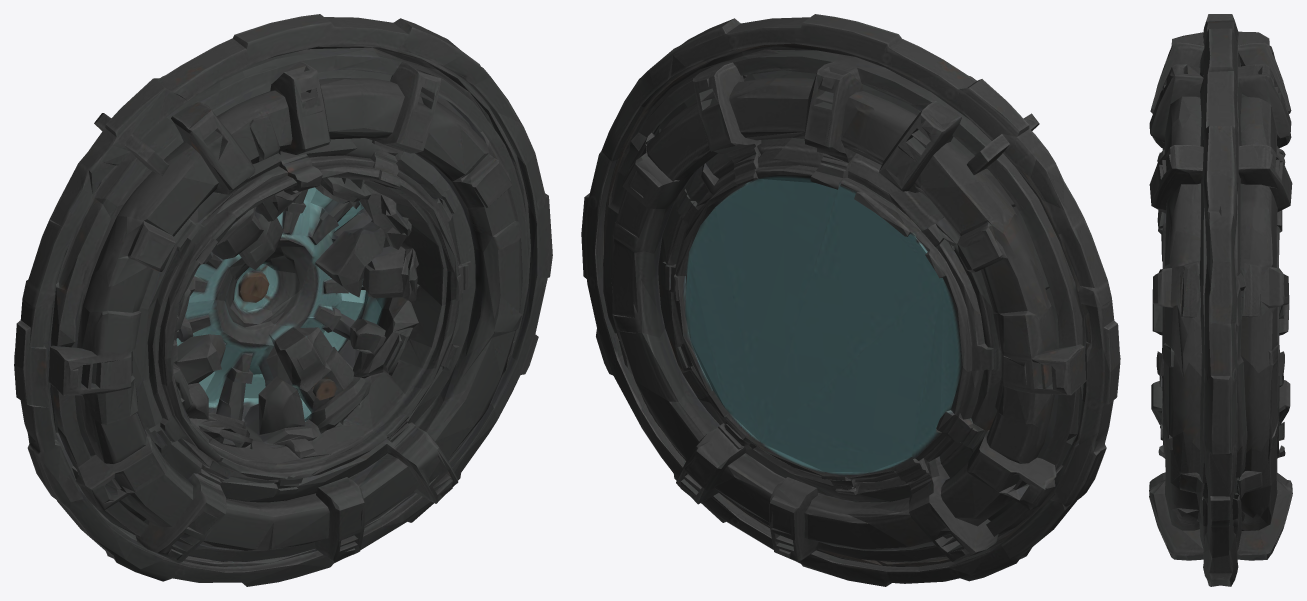
Rendered from web.glb.
The picture shows the model from 3 angles, left to right: view 1: azimuth 30°, elevation 25°; view 2: azimuth 150°, elevation 25°; view 3: azimuth 270°, elevation 25°; orthographic projection. The views are drawn at different scales.
Visible parts, largest first — view 1: output_unwrapped; view 2: output_unwrapped; view 3: output_unwrapped.
Part boxes in pixels (x1,y1,x2,y2): output_unwrapped: [14, 14, 552, 586]; output_unwrapped: [581, 14, 1120, 586]; output_unwrapped: [1149, 14, 1292, 586].
Bounding box in the file's own units: 1.9 × 1.89 × 0.481.
1 material, 1 textured.
